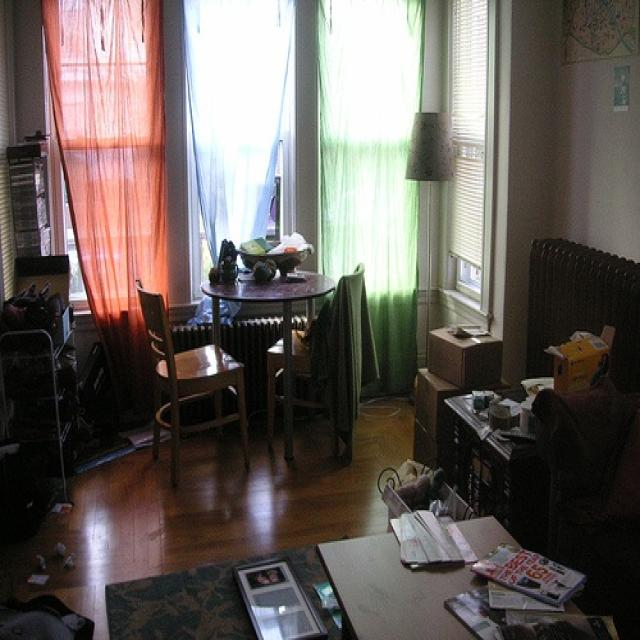chair: (136, 288, 254, 490), (268, 264, 366, 466)
diningtable: (200, 270, 339, 468)
sofa: (532, 377, 638, 603)
